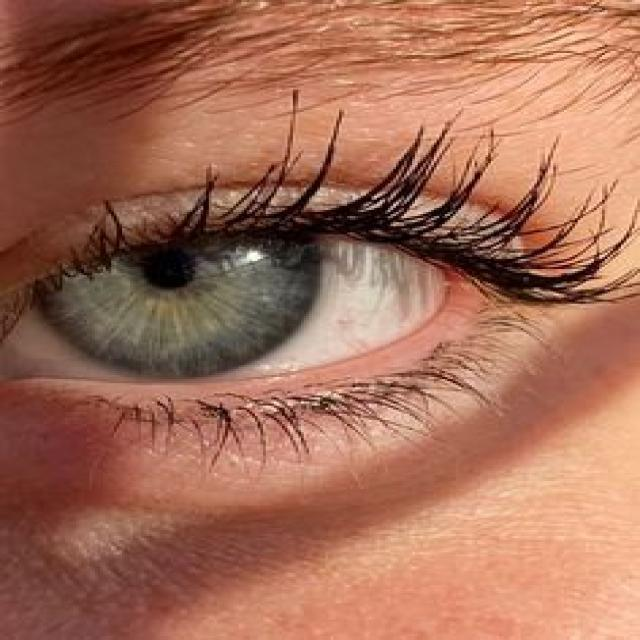Normal: (0, 0, 637, 638)
